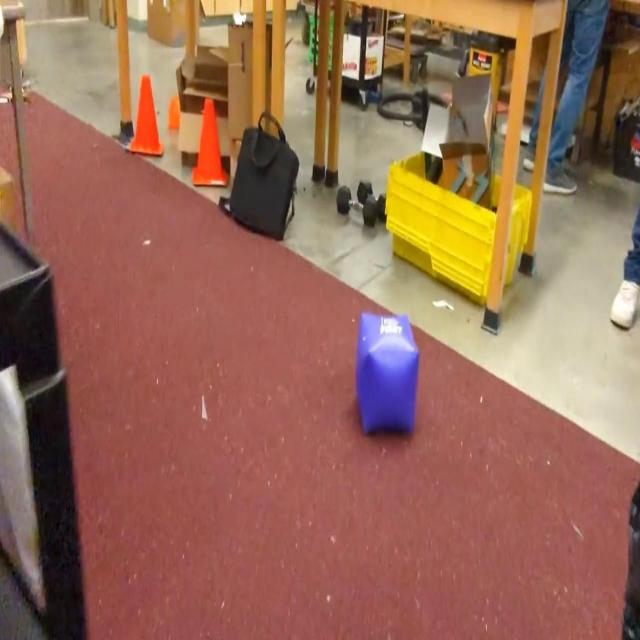frc_cube: (356, 310, 420, 439)
